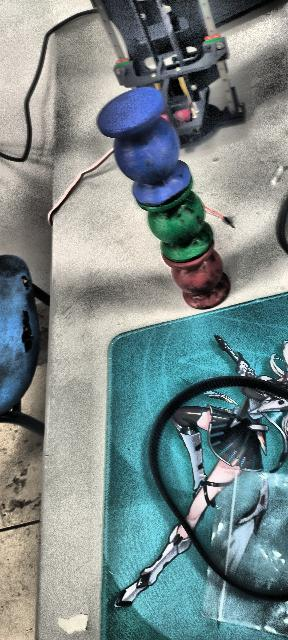blue: (94, 87, 192, 205)
green: (136, 179, 213, 261)
red: (163, 242, 231, 311)
